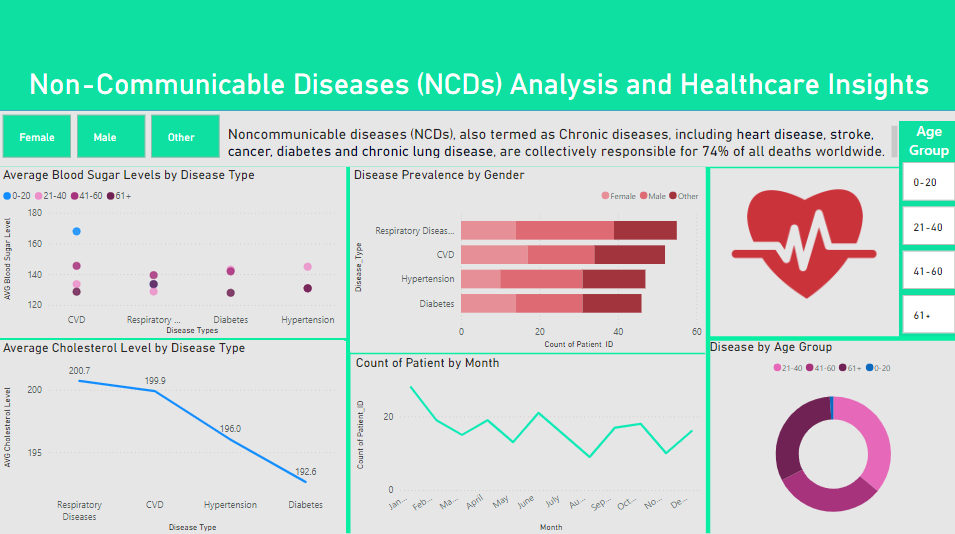

The dashboard page shown, as its layout file describes it:
{"tool":"powerbi","page":{"name":"Page 1","canvas":[1280,720],"ordinal":0},"visuals":[{"type":"shape","box":[310,230,310,487.1],"z":0},{"type":"shape","box":[465.8,327.6,476.3,300],"z":1000},{"type":"shape","box":[0,79.8,1200,300],"z":2000},{"type":"barChart","title":"Disease Prevalence by Gender","fields":{"Category":["NCDs_Mock_Dataset.Disease_Type"],"Series":["NCDs_Mock_Dataset.Gender"],"Y":["CountNonNull(NCDs_Mock_Dataset.Patient_ID)"]},"box":[467.5,229.9,473.9,246],"z":3000},{"type":"lineChart","title":"Average Blood Sugar Trends Over Months","fields":{"Y":["Avg(NCDs_Mock_Dataset.Blood_Sugar_Level)"],"Category":["NCDs_Mock_Dataset.Hospital_Visit_Date.Variation.Date Hierarchy.Month"]},"box":[0,230,460,228.6],"z":4000},{"type":"advancedSlicerVisual","title":"Age Group","fields":{"Values":["NCDs_Mock_Dataset.Age_Group"]},"box":[1200,168.6,80,290],"z":5000},{"type":"advancedSlicerVisual","fields":{"Values":["NCDs_Mock_Dataset.Gender"]},"box":[0,154.3,300,67.1],"z":6000},{"type":"columnChart","title":"Disease Prevalence by Age Group","fields":{"Series":["NCDs_Mock_Dataset.Age_Group"],"Category":["NCDs_Mock_Dataset.Disease_Type"],"Y":["CountNonNull(NCDs_Mock_Dataset.Patient_ID)"]},"box":[469.7,480.3,472.4,239.5],"z":7000},{"type":"lineChart","title":"Cholesterol Levels by Age Group","fields":{"Y":["Avg(NCDs_Mock_Dataset.Cholesterol_Level)"],"Category":["NCDs_Mock_Dataset.Age_Group"]},"box":[0,468.6,460,240],"z":8000},{"type":"shape","box":[0,0,1280,154.3],"z":9000},{"type":"shape","box":[0,340.1,465.6,238.2],"z":10000},{"type":"donutChart","title":"Disease by Age Group","fields":{"Y":["CountNonNull(NCDs_Mock_Dataset.Disease_Type)"],"Category":["NCDs_Mock_Dataset.Age_Group"]},"box":[945.7,458.6,334.3,258.6],"z":11000},{"type":"shape","box":[791.4,230.1,306.7,487.1],"z":12000},{"type":"shape","box":[945.7,308.6,335,300],"z":13000},{"type":"textbox","box":[0,90,1280,64.3],"z":14000},{"type":"textbox","box":[300,168.8,900,52.9],"z":15000},{"type":"image","box":[971.4,230,202.9,202.9],"z":16000},{"type":"scatterChart","title":"Average Blood Sugar Levels by Disease Type","fields":{"X":["NCDs_Mock_Dataset.Disease_Type"],"Y":["Avg(NCDs_Mock_Dataset.Blood_Sugar_Level)"],"Series":["NCDs_Mock_Dataset.Age_Group"]},"box":[0,229.9,463.1,228],"z":17000},{"type":"lineChart","title":"Average Cholesterol Level by Disease Type","fields":{"Category":["NCDs_Mock_Dataset.Disease_Type"],"Y":["Avg(NCDs_Mock_Dataset.Cholesterol_Level)"]},"box":[0,460,460,260],"z":18000},{"type":"lineChart","title":"Count of Patient by Month","fields":{"Category":["NCDs_Mock_Dataset.Hospital_Visit_Date.Variation.Date Hierarchy.Month"],"Y":["CountNonNull(NCDs_Mock_Dataset.Patient_ID)"]},"box":[470,480,471.4,240],"z":19000}]}

Visuals, with their boxes in screenshot pixels (x1, y1, x2, y2), scaled from the page's 1280x720 canvas onto the 955x534 screenshot:
shape: box=[231, 171, 463, 532]
shape: box=[348, 243, 703, 465]
shape: box=[0, 59, 895, 282]
"Disease Prevalence by Gender" barChart: box=[349, 171, 702, 353]
"Average Blood Sugar Trends Over Months" lineChart: box=[0, 171, 343, 340]
"Age Group" advancedSlicerVisual: box=[895, 125, 954, 340]
advancedSlicerVisual - NCDs_Mock_Dataset.Gender: box=[0, 114, 224, 164]
"Disease Prevalence by Age Group" columnChart: box=[350, 356, 703, 533]
"Cholesterol Levels by Age Group" lineChart: box=[0, 348, 343, 526]
shape: box=[0, 0, 954, 114]
shape: box=[0, 252, 347, 429]
"Disease by Age Group" donutChart: box=[706, 340, 954, 532]
shape: box=[590, 171, 819, 532]
shape: box=[706, 229, 954, 451]
textbox: box=[0, 67, 954, 114]
textbox: box=[224, 125, 895, 164]
image: box=[725, 171, 876, 321]
"Average Blood Sugar Levels by Disease Type" scatterChart: box=[0, 171, 346, 340]
"Average Cholesterol Level by Disease Type" lineChart: box=[0, 341, 343, 533]
"Count of Patient by Month" lineChart: box=[351, 356, 702, 533]
